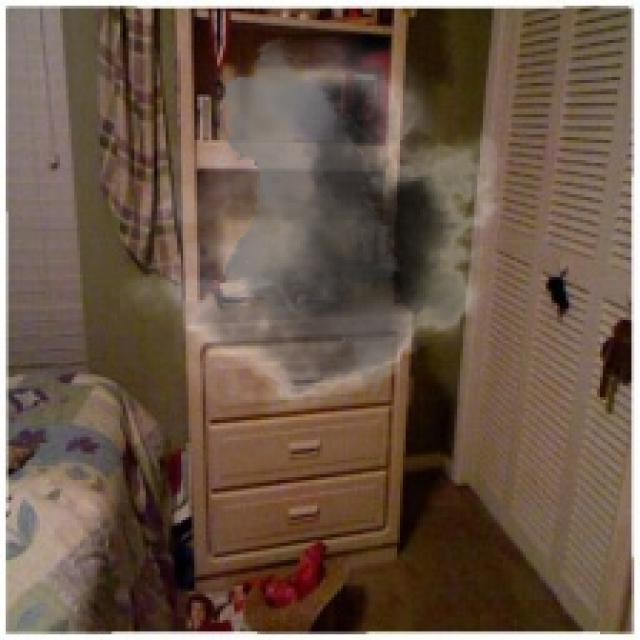smoke: (117, 37, 520, 429)
